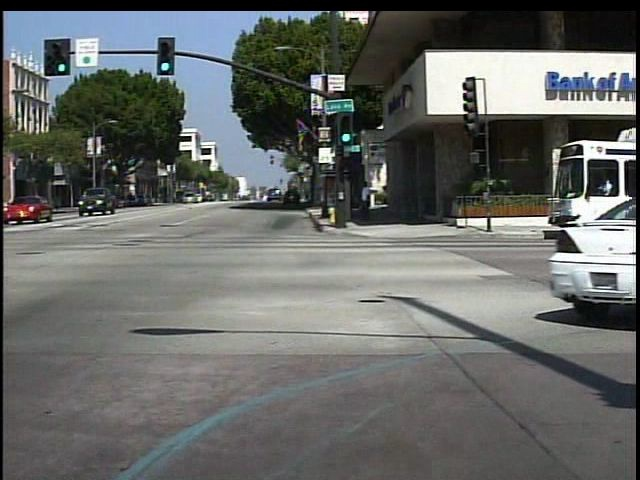person: (358, 180, 377, 225)
